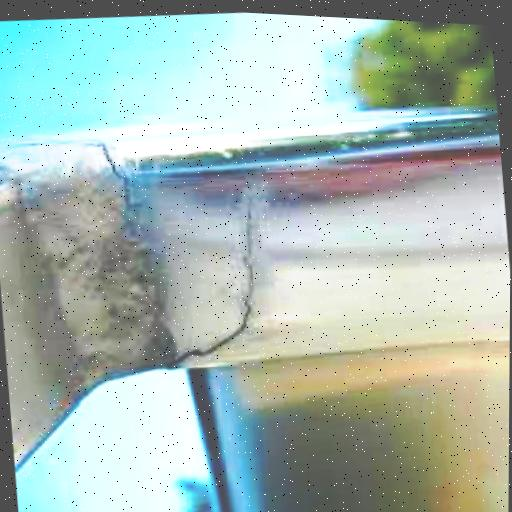crack: (161, 202, 267, 373), (11, 126, 152, 218)
